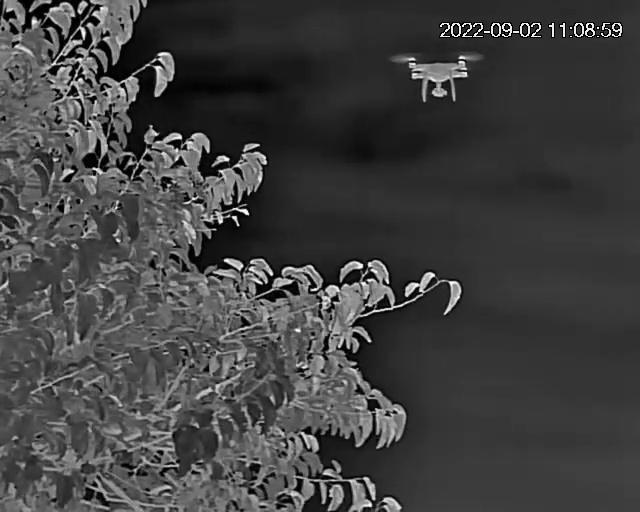DJI-Phantom: (389, 52, 481, 106)
